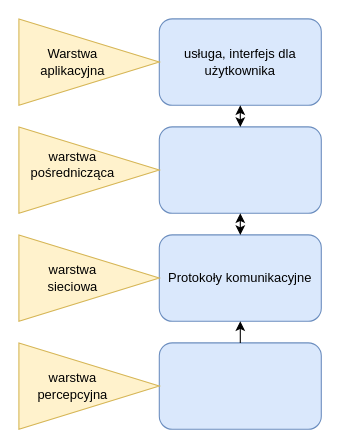
Some shapes in this 340 by 448 pixel diagram are drawn without their labels. Here are the shapes that lost their labels. From the top down, the centre of each, then its label:
At pixel 239 169: "wykonywanie obliczeń, przechowywanie danych".
At pixel 239 385: "Fizyczne urządzenia, czujniki".
